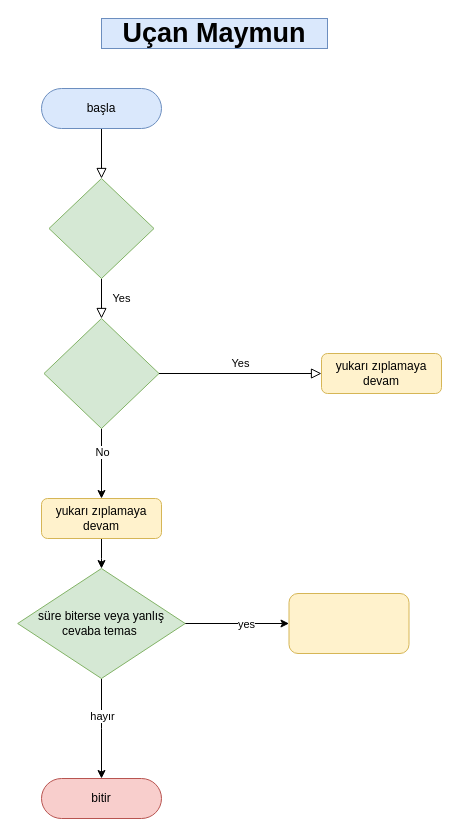
This 459x836 diagram has some shape labels left out. Each missing label, with the box of its shape:
maymun doğru cevaba teması: (43, 318, 159, 428)
ondalık sayı sorusu sor: (48, 178, 154, 278)
zıplama kuvveti artır: (288, 592, 409, 654)
